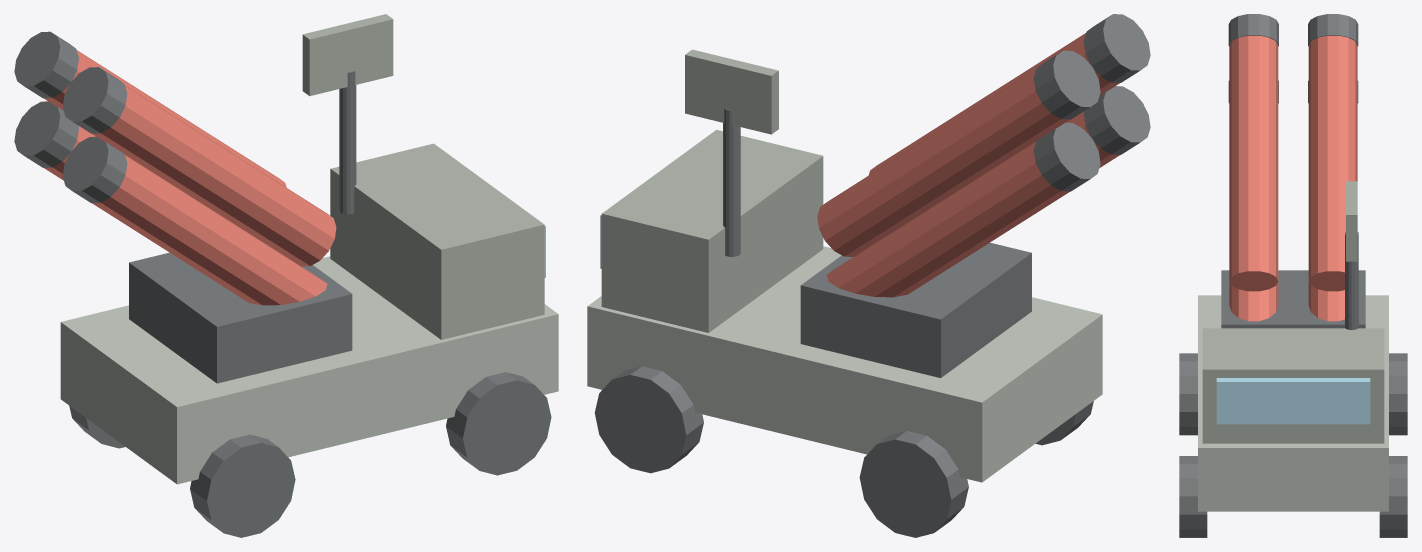
File: sam_red.glb
3 views of the same model, side by side, from view 1: azimuth 30°, elevation 25°; view 2: azimuth 150°, elevation 25°; view 3: azimuth 270°, elevation 25° (orthographic). The views are drawn at different scales.
Parts seen in each view (by area): view 1: part00, part01, part07, part12, part08, part05, part03, part17, part13, part15, part09, part11 (+3 smaller); view 2: part00, part01, part07, part14, part10, part04, part06, part17, part15, part13, part11, part09 (+3 smaller); view 3: part00, part01, part12, part14, part02, part07, part03, part04, part05, part06, part08, part13 (+4 smaller).
Boxes of the visible parts, <box> form: part00: <box>60,256,558,484</box>; part01: <box>330,143,544,339</box>; part07: <box>129,252,352,383</box>; part12: <box>92,85,336,266</box>; part08: <box>92,155,327,305</box>; part05: <box>190,434,295,537</box>; part03: <box>446,372,551,475</box>; part17: <box>302,14,393,96</box>; part13: <box>62,67,127,133</box>; part15: <box>14,31,78,98</box>; part09: <box>62,136,127,203</box>; part11: <box>14,101,78,167</box>; part00: <box>587,246,1102,482</box>; part01: <box>601,129,823,332</box>; part07: <box>800,242,1031,377</box>; part14: <box>817,69,1069,256</box>; part10: <box>826,141,1069,297</box>; part04: <box>594,366,703,473</box>; part06: <box>859,431,968,537</box>; part17: <box>685,49,778,134</box>; part15: <box>1033,50,1100,119</box>; part13: <box>1083,14,1150,82</box>; part11: <box>1033,122,1100,191</box>; part09: <box>1083,86,1150,154</box>; part00: <box>1198,295,1388,511</box>; part01: <box>1202,328,1384,443</box>; part12: <box>1229,35,1278,291</box>; part14: <box>1308,35,1357,291</box>; part02: <box>1216,378,1370,424</box>; part07: <box>1221,270,1365,328</box>; part03: <box>1179,456,1207,537</box>; part04: <box>1379,456,1407,537</box>; part05: <box>1179,353,1197,435</box>; part06: <box>1389,353,1407,435</box>; part08: <box>1229,282,1278,321</box>; part13: <box>1228,14,1278,46</box>.
Bounding box in the file's own units: 1.85 × 1.78 × 0.98.
